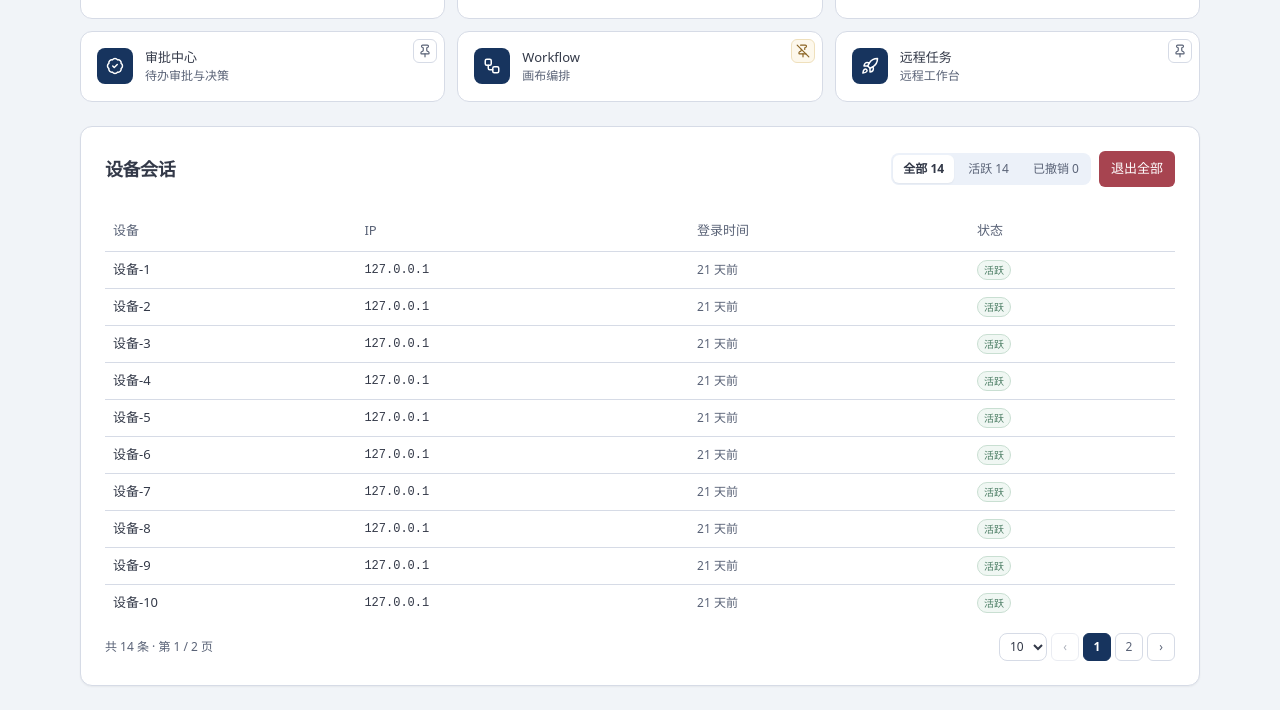
Test: User（工作台） › 前端分页：第二页内容不同；pageSize 切换重置回第 1 页
(page scrolled)
Check: the text with test id "devices-page-summary" reads "共 14 条 · 第 1 / 2 页", box top-left (105, 638), bottom-right (213, 654)
Check: the text "设备-10" is shown, box top-left (105, 584), bottom-right (356, 620)
# 翻到第 2 页 → 展示剩余 4 条。
Click the button with test id "devices-next". click: [1161, 646]
box: top-left (1147, 632), bottom-right (1175, 660)
(page scrolled)
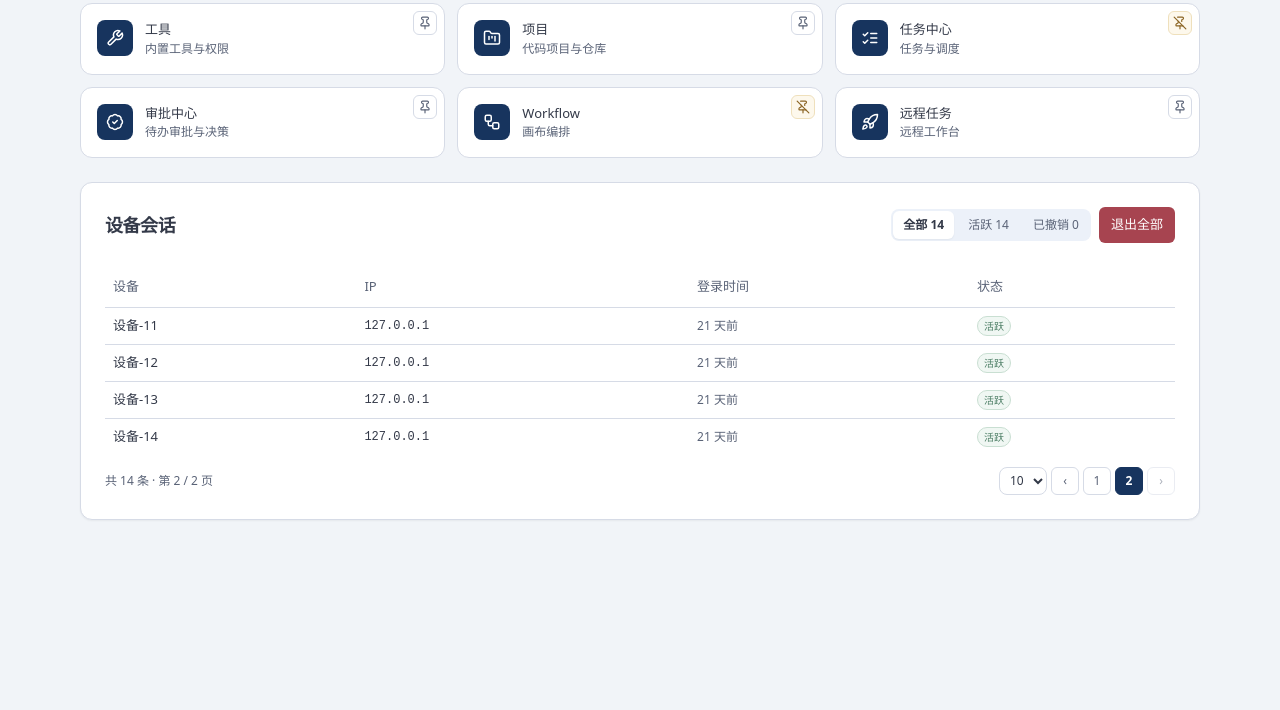
Check: the text "设备-11" is shown, box top-left (105, 307), bottom-right (356, 344)
Check: the text with test id "devices-page-summary" reads "共 14 条 · 第 2 / 2 页", box top-left (105, 472), bottom-right (213, 488)
Check: the button with test id "devices-next" is disabled, box top-left (1147, 466), bottom-right (1175, 494)
# pageSize 切 20 → 回到第 1 页且全部 14 条同屏。
Select "20" in the dropdown with test id "devices-page-size". click: [1023, 480]
box: top-left (999, 466), bottom-right (1047, 494)
(page scrolled)
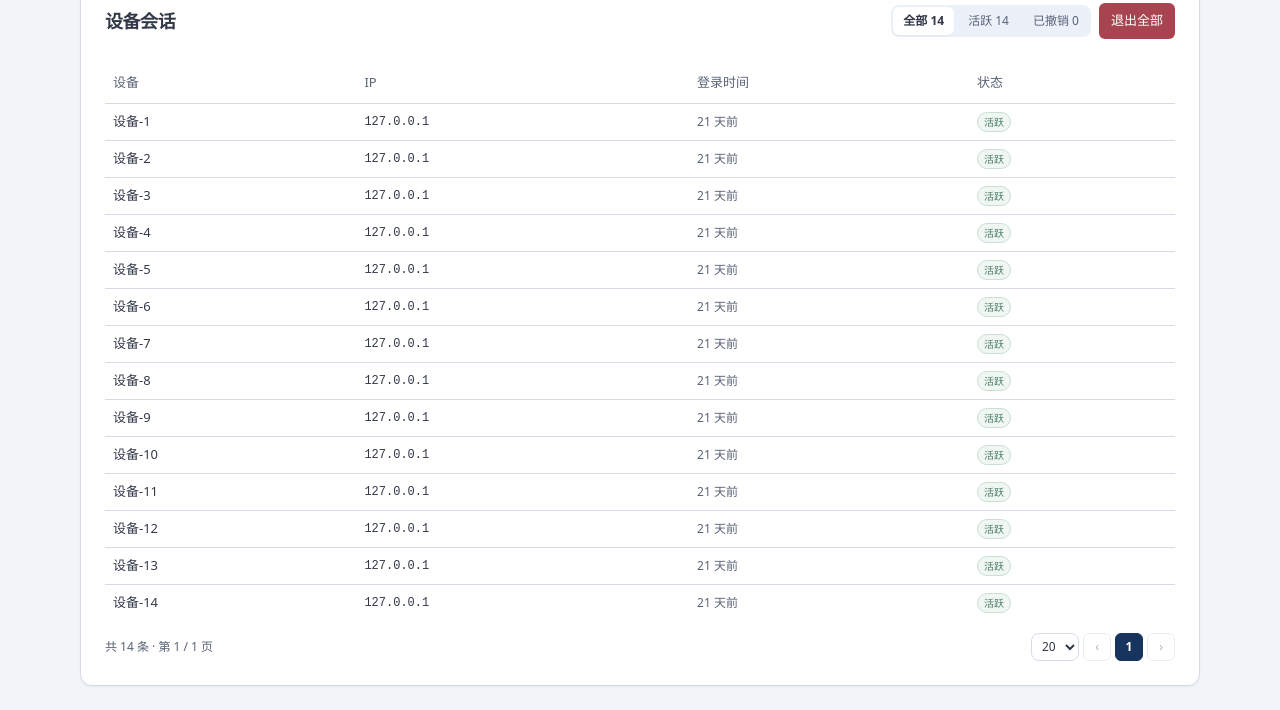
Check: the text "设备-14" is shown, box top-left (105, 584), bottom-right (356, 620)
Check: the text with test id "devices-page-summary" reads "共 14 条 · 第 1 / 1 页", box top-left (105, 638), bottom-right (213, 654)
